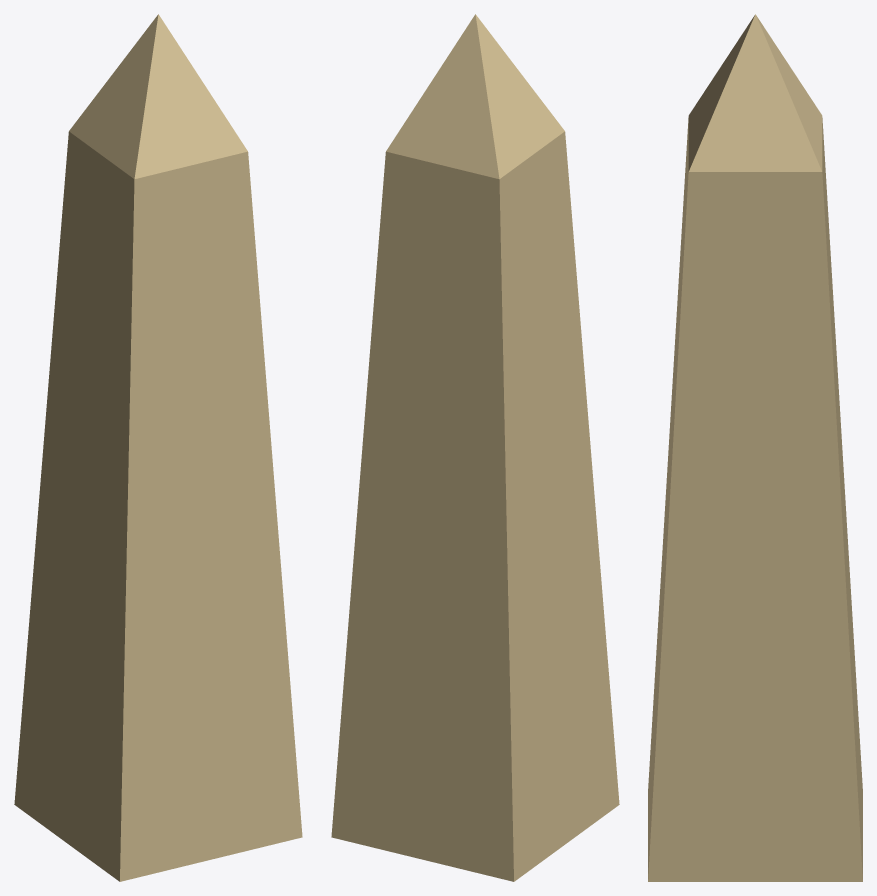
The model's file is Obelisk.fbx.
3 views of the same model, side by side, from view 1: azimuth 30°, elevation 25°; view 2: azimuth 150°, elevation 25°; view 3: azimuth 270°, elevation 25° (orthographic).
Visible parts, largest first — view 1: Obelisk; view 2: Obelisk; view 3: Obelisk.
Boxes of the visible parts, bbox=[...] form: Obelisk: bbox=[14, 14, 302, 881]; Obelisk: bbox=[331, 14, 619, 881]; Obelisk: bbox=[648, 14, 862, 881].
Size of the model in its own units: 0.9 by 3.8 by 0.9.
